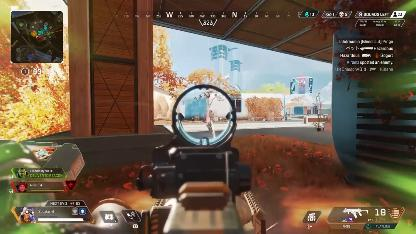Target: (206, 109, 214, 133)
